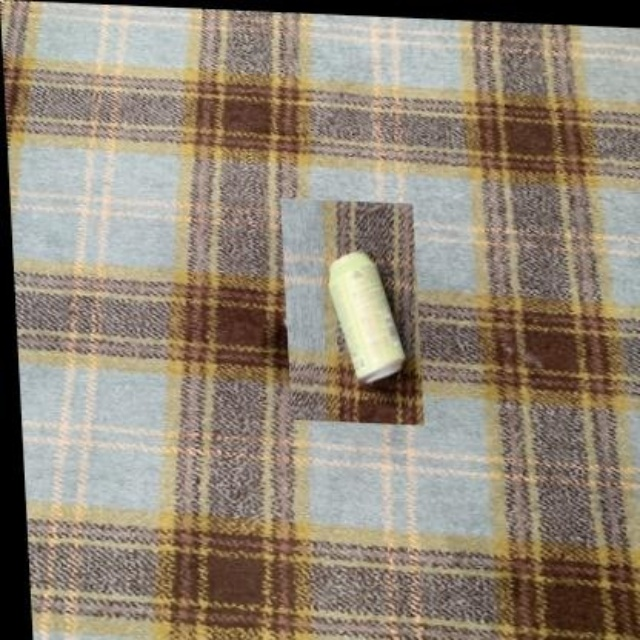trash: (328, 252, 403, 382)
